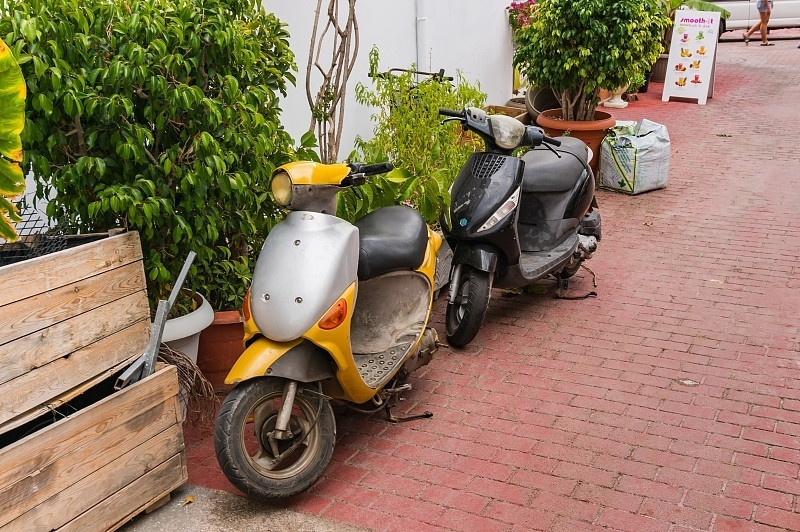non-vehicle: (234, 148, 450, 499), (433, 103, 619, 351)
